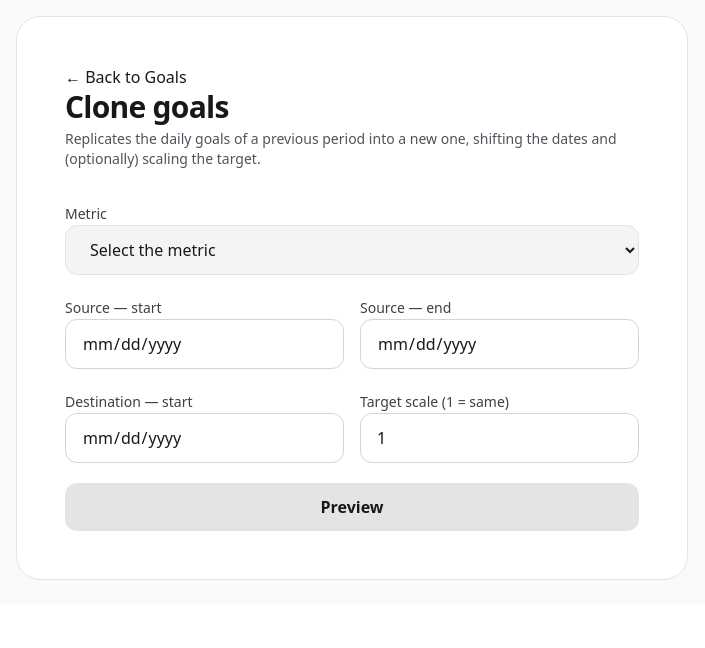
Test case: ClonarMetas › envia escala no corpo da requisição
Select "Receita (daily)" in the dropdown named "metric_id". click: (352,250)
box: [65,225,639,275]
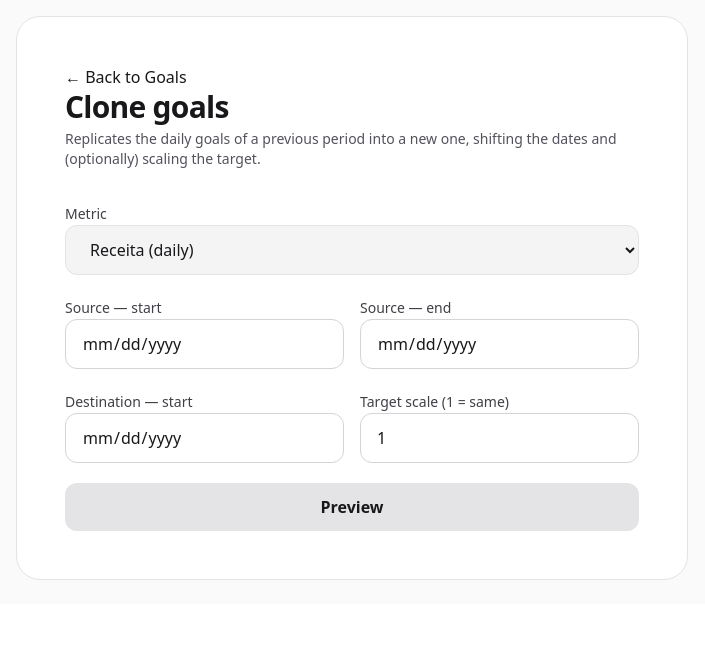
Type "2026-07-01" into the date field named "origem_inicio" below "Source — start". click: (204,344)
box: [65,319,344,369]
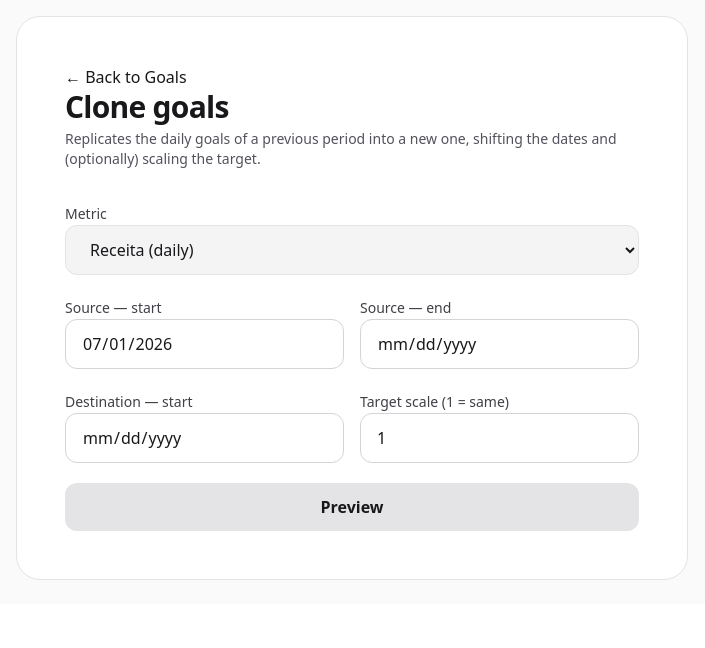
Type "2026-07-04" into the date field named "origem_fim" below "Source — end". click: (500,344)
box: [360,319,639,369]
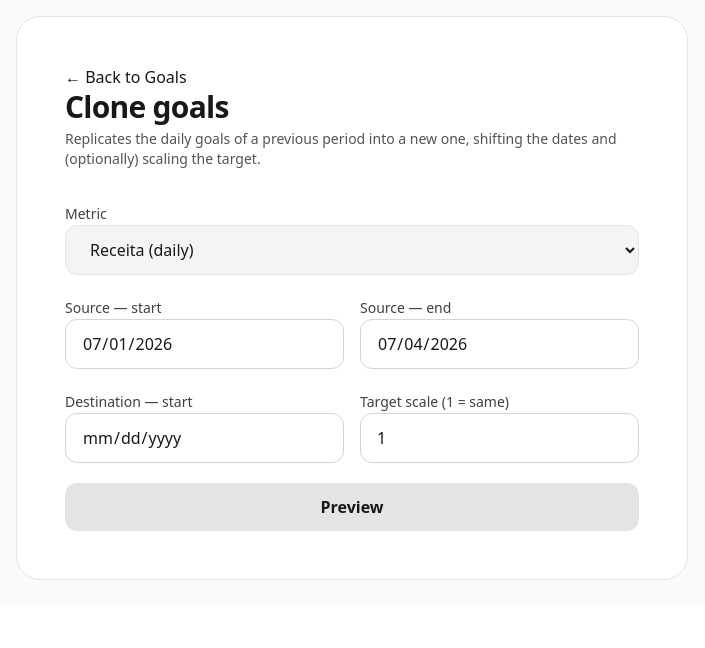
Type "2026-08-01" into the date field named "destino_inicio" below "Destination — start". click: (204,438)
box: [65,413,344,463]
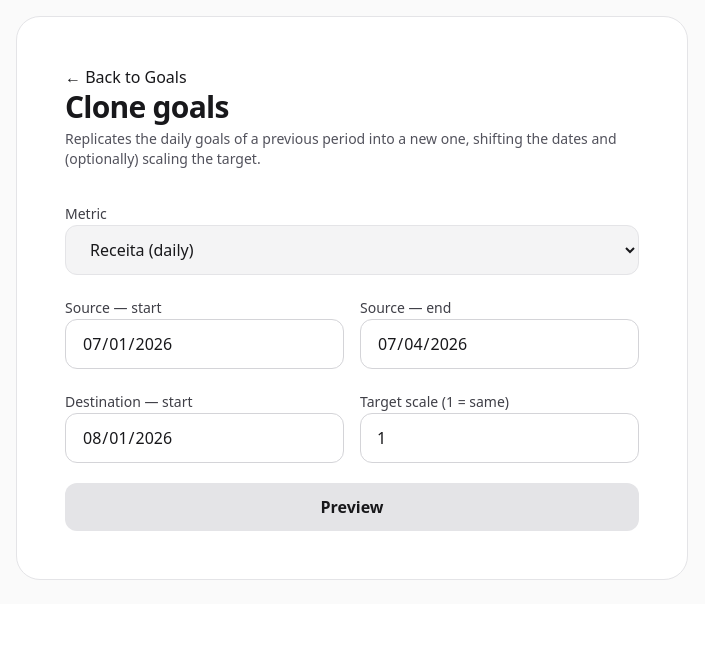
Replace the text in the number field named "escala" with "1.1". click: (500,438)
box: [360,413,639,463]
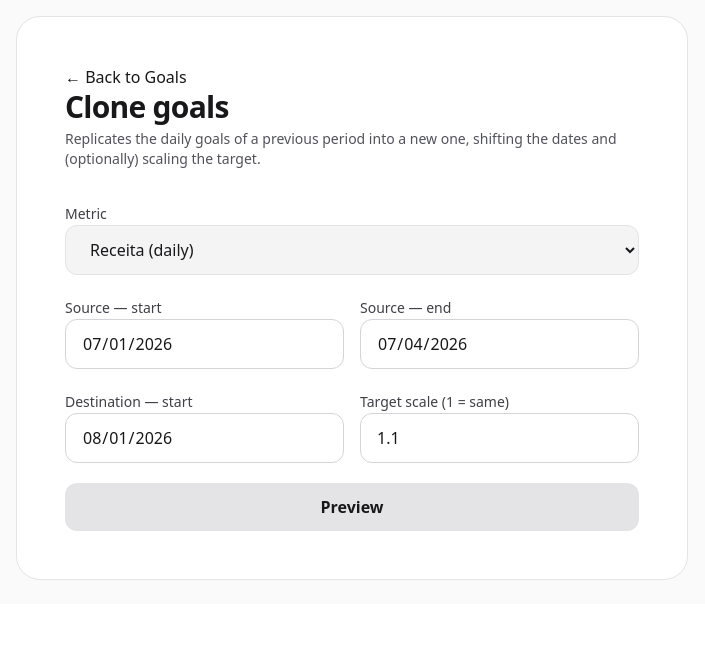
Click the button "Preview". click: (352,507)
box: [65,483,639,531]
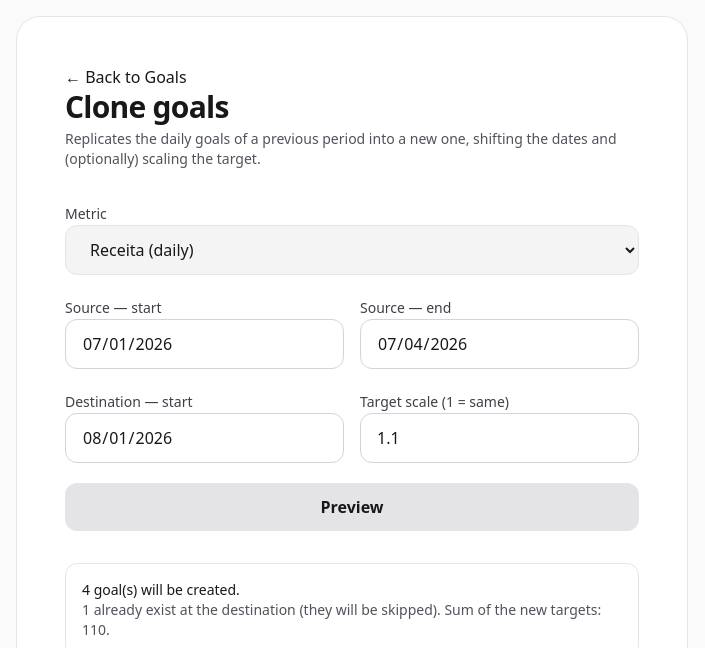
Now the text "4 goal(s) will be created." is shown, box [82,580,240,599]
